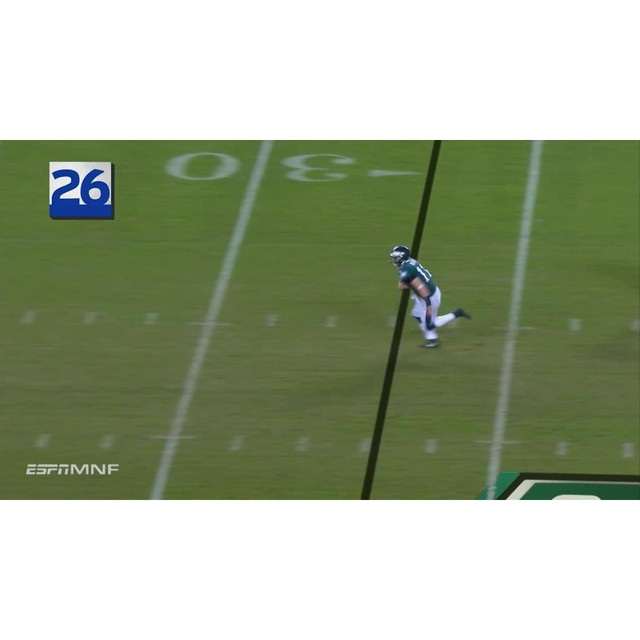american-football-player: (389, 245, 474, 348)
